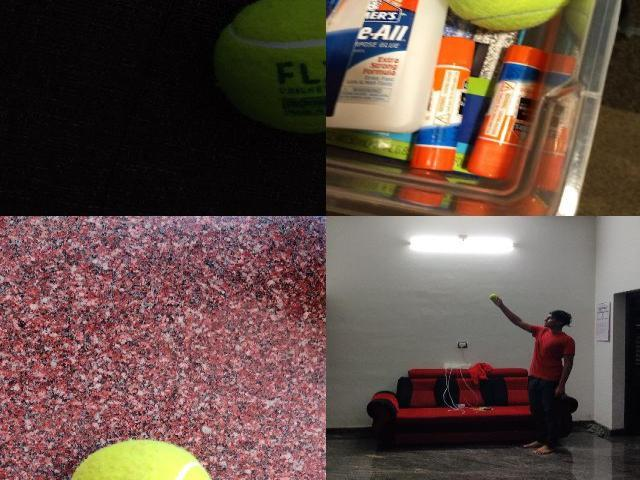tennis-ball: (211, 0, 325, 134), (67, 440, 213, 480), (438, 0, 578, 32), (489, 293, 497, 299)
